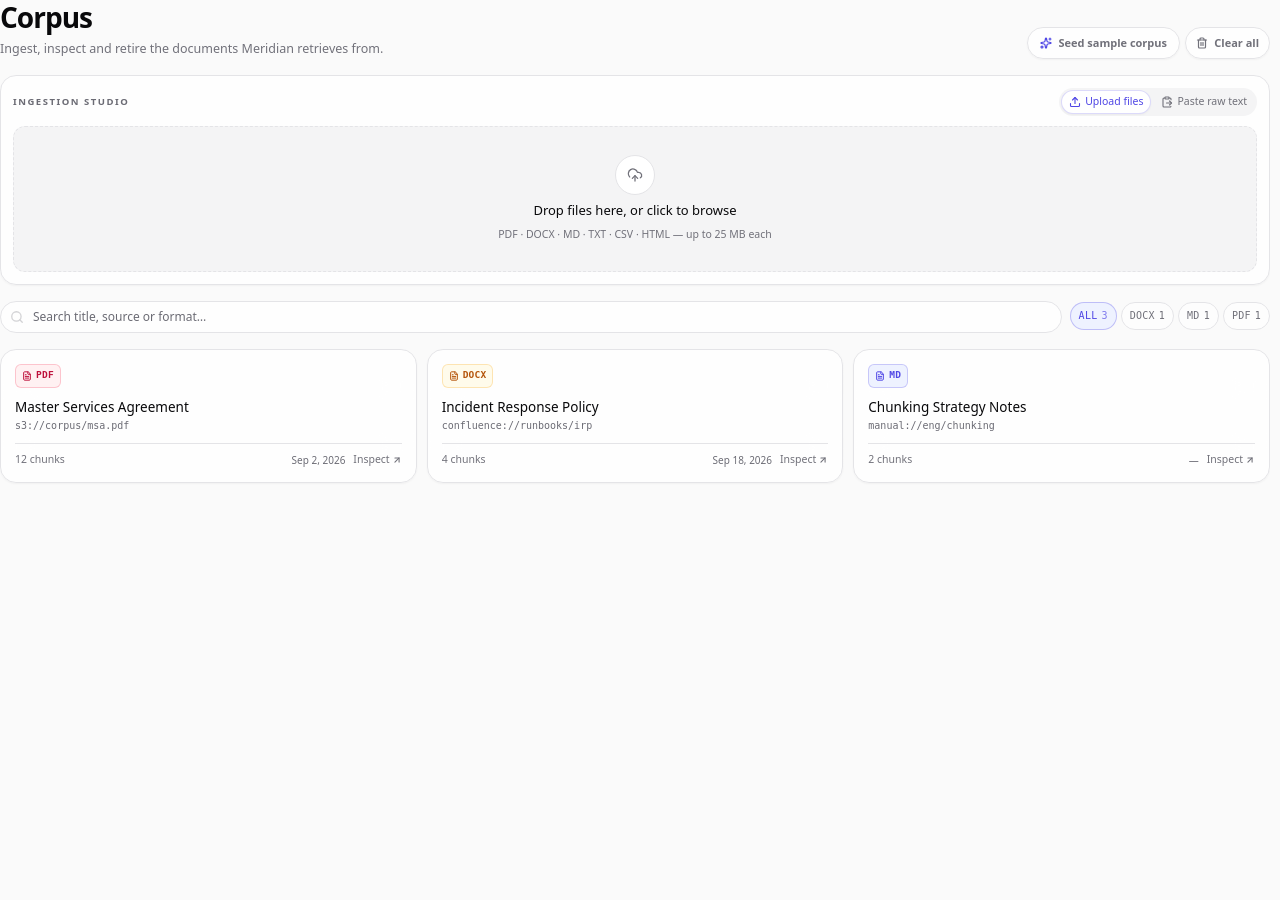
Test case: VaultView catalog › opens the chunk inspector from a document card
Click the button "Inspect" next to "Sep 2, 2026" at (378, 460), box [353,452,402,468]
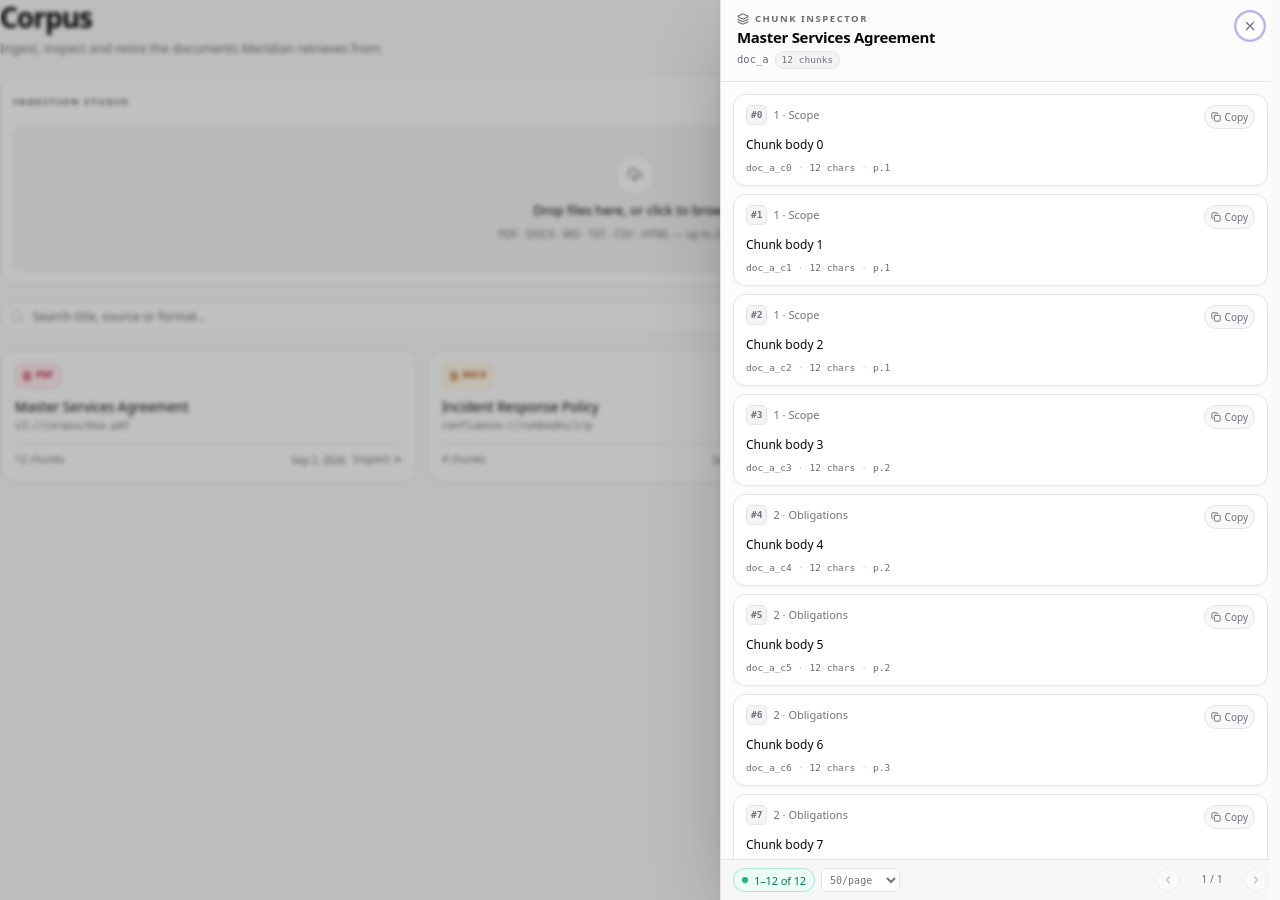
Expected: the dialog named "Chunk inspector" shows "Master Services Agreement", [737,27,935,47]
Expected: the dialog named "Chunk inspector" shows "12 chunks", [720,0,1279,899]
Expected: the dialog named "Chunk inspector" shows "Chunk body 0", [746,136,824,153]
